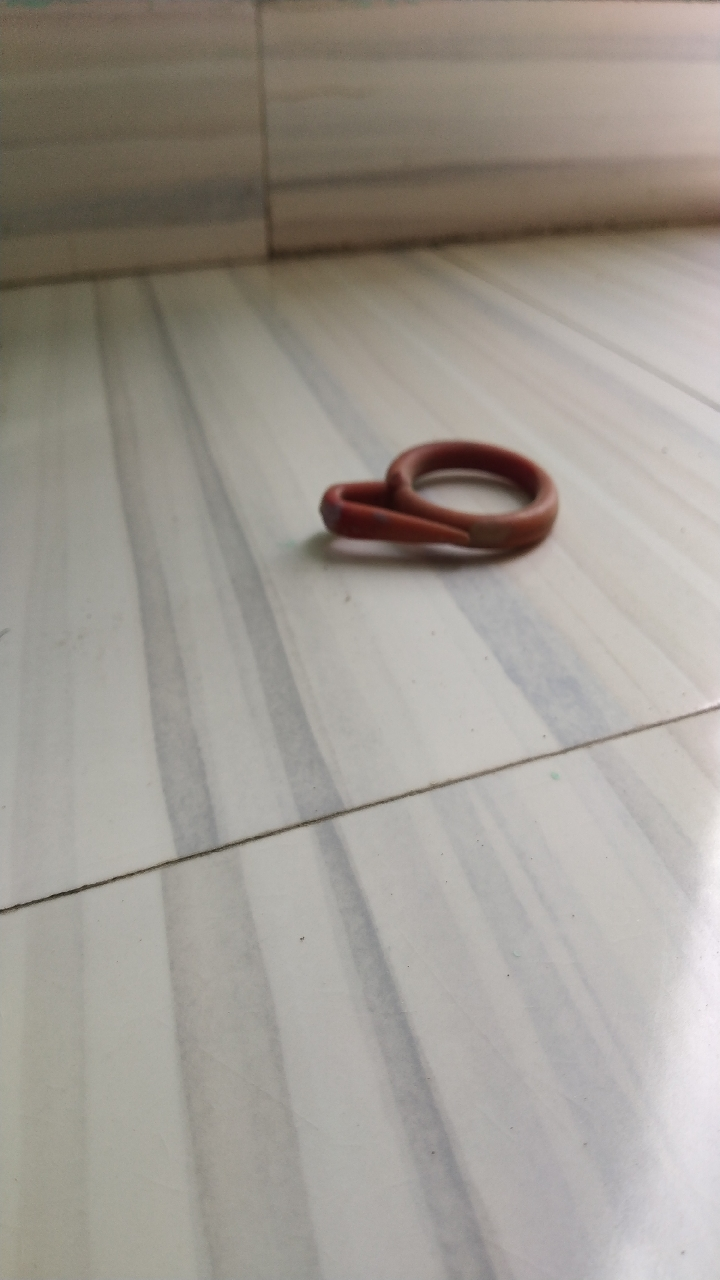garments: (310, 434, 568, 573)
